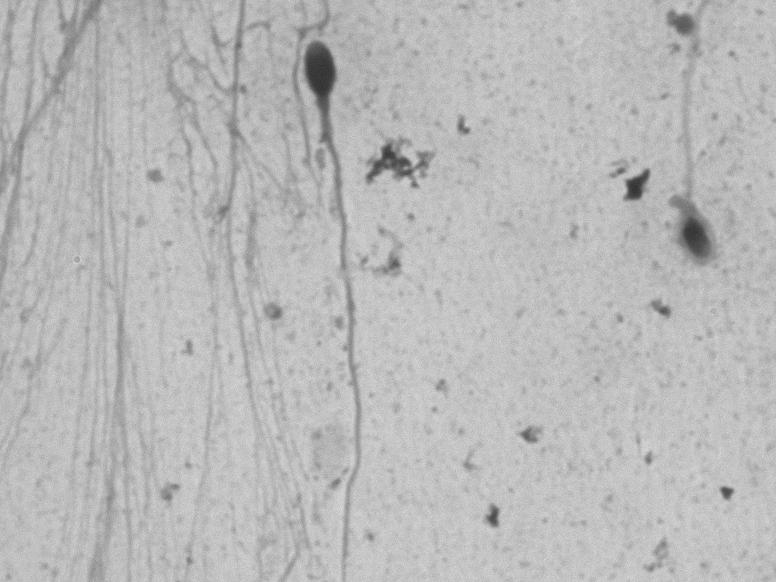Abnormal: (633, 52, 744, 293)
Normal: (292, 32, 401, 555)
